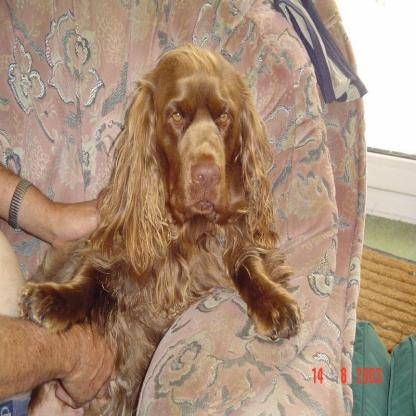Sussex_spaniel: (17, 41, 304, 412)
